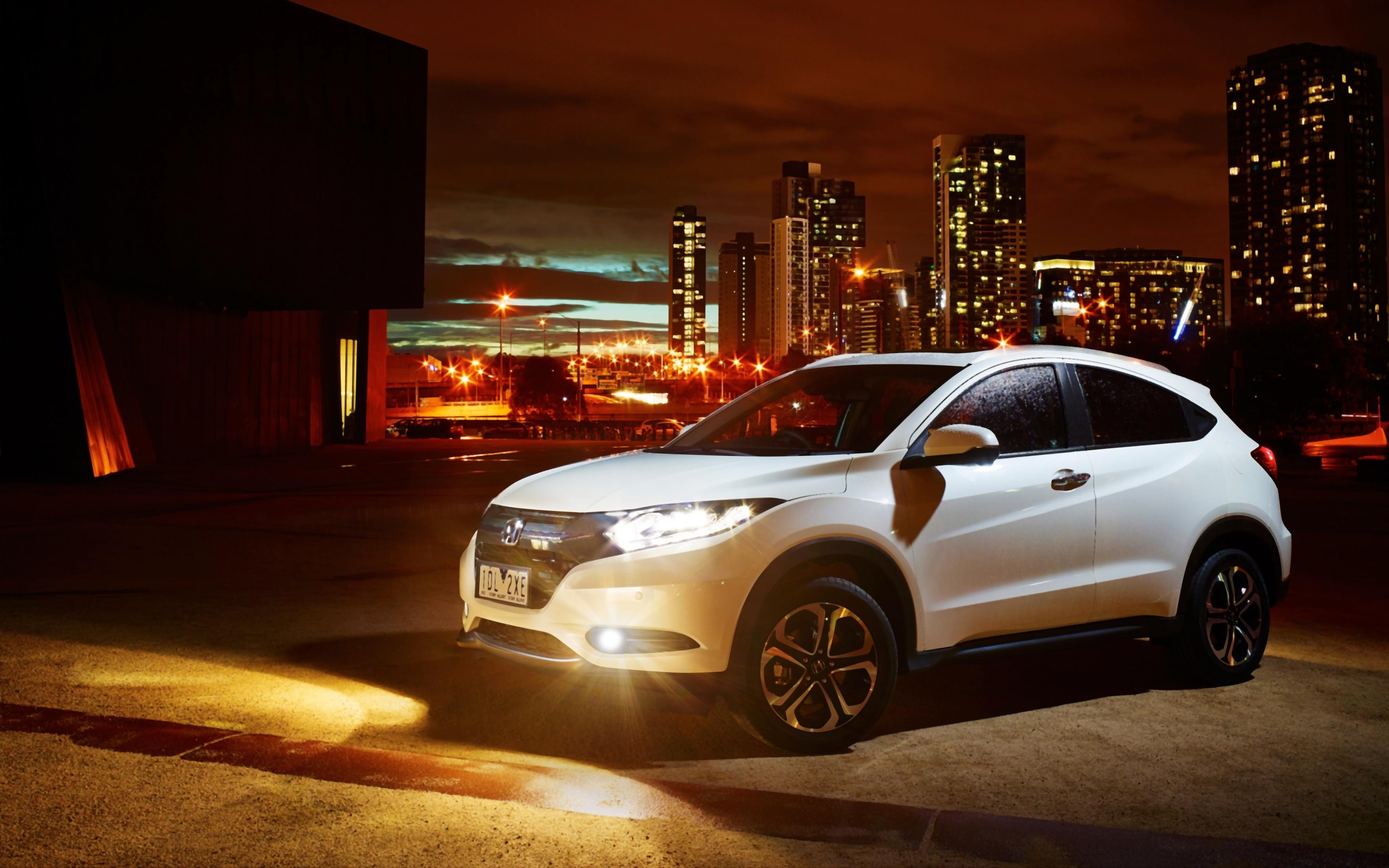Car hood: (482, 444, 856, 517)
Fender - -F-L-: (734, 442, 927, 671)
Fender - -R-L-: (1224, 444, 1269, 546)
Front bumper: (452, 545, 783, 691)
Headlight - -L-: (596, 493, 801, 560)
Passenger-s door - -F-L-: (927, 355, 1095, 657)
Passenger-s door - -R-L-: (1094, 355, 1225, 633)
Rear bumper: (1265, 519, 1306, 595)
Rear light - -L-: (1247, 436, 1285, 487)
Side bumper - -L-: (902, 612, 1189, 682), (904, 416, 1006, 471)
